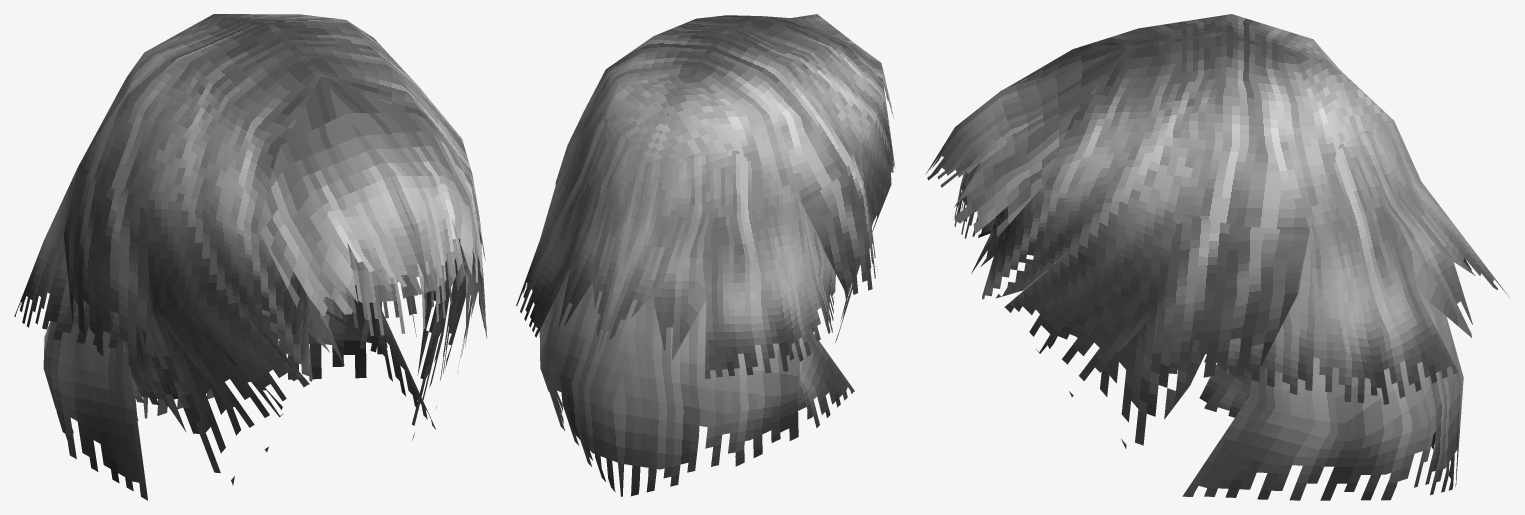
The model's file is m_head007.glb.
3 views of the same model, side by side, from view 1: azimuth 30°, elevation 25°; view 2: azimuth 150°, elevation 25°; view 3: azimuth 270°, elevation 25° (orthographic). The views are drawn at different scales.
Bounding box in the file's own units: 21.73 × 27.76 × 32.17.
1 material, 1 textured.
